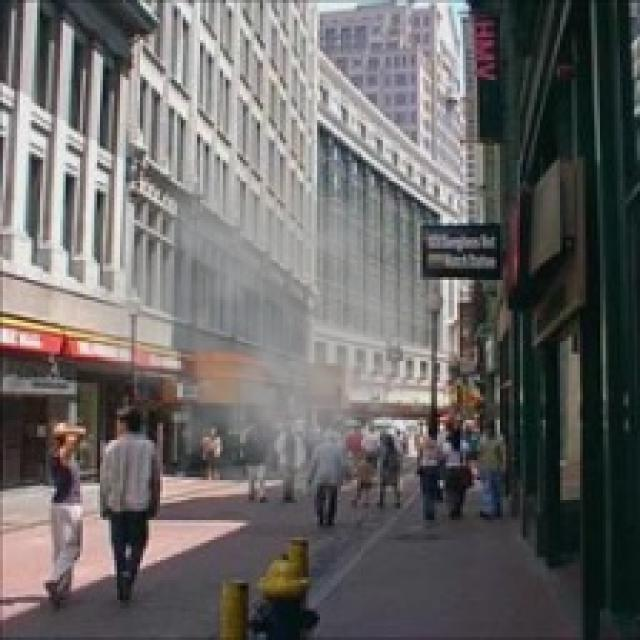Smoke: (68, 160, 480, 537)
